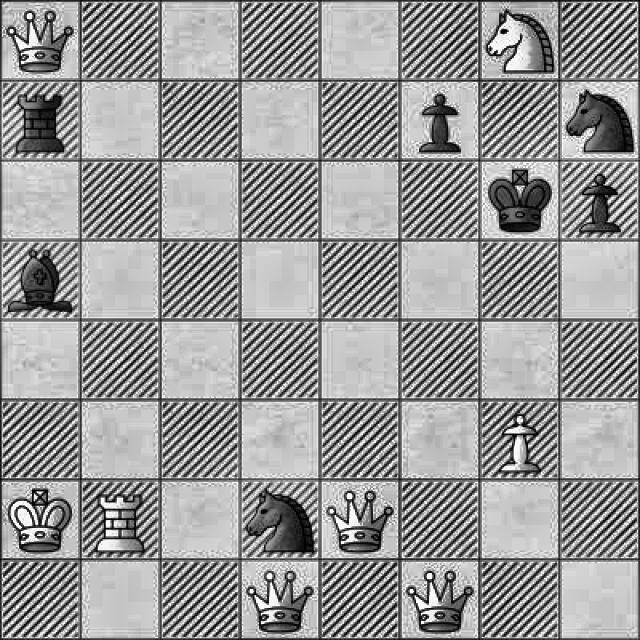Black Knight: (563, 83, 640, 160), (246, 480, 315, 560)
black bishop: (1, 240, 79, 319)
black king: (482, 163, 560, 230)
black pawn: (404, 86, 479, 158), (573, 166, 629, 231)
black rook: (6, 90, 77, 162)
white king: (2, 488, 79, 556)
white pawn: (484, 404, 556, 476)
white queen: (243, 566, 317, 640), (405, 563, 477, 638), (5, 7, 76, 79), (328, 480, 396, 555)
white rook: (90, 494, 154, 553)
whiteknight: (487, 0, 554, 76)
